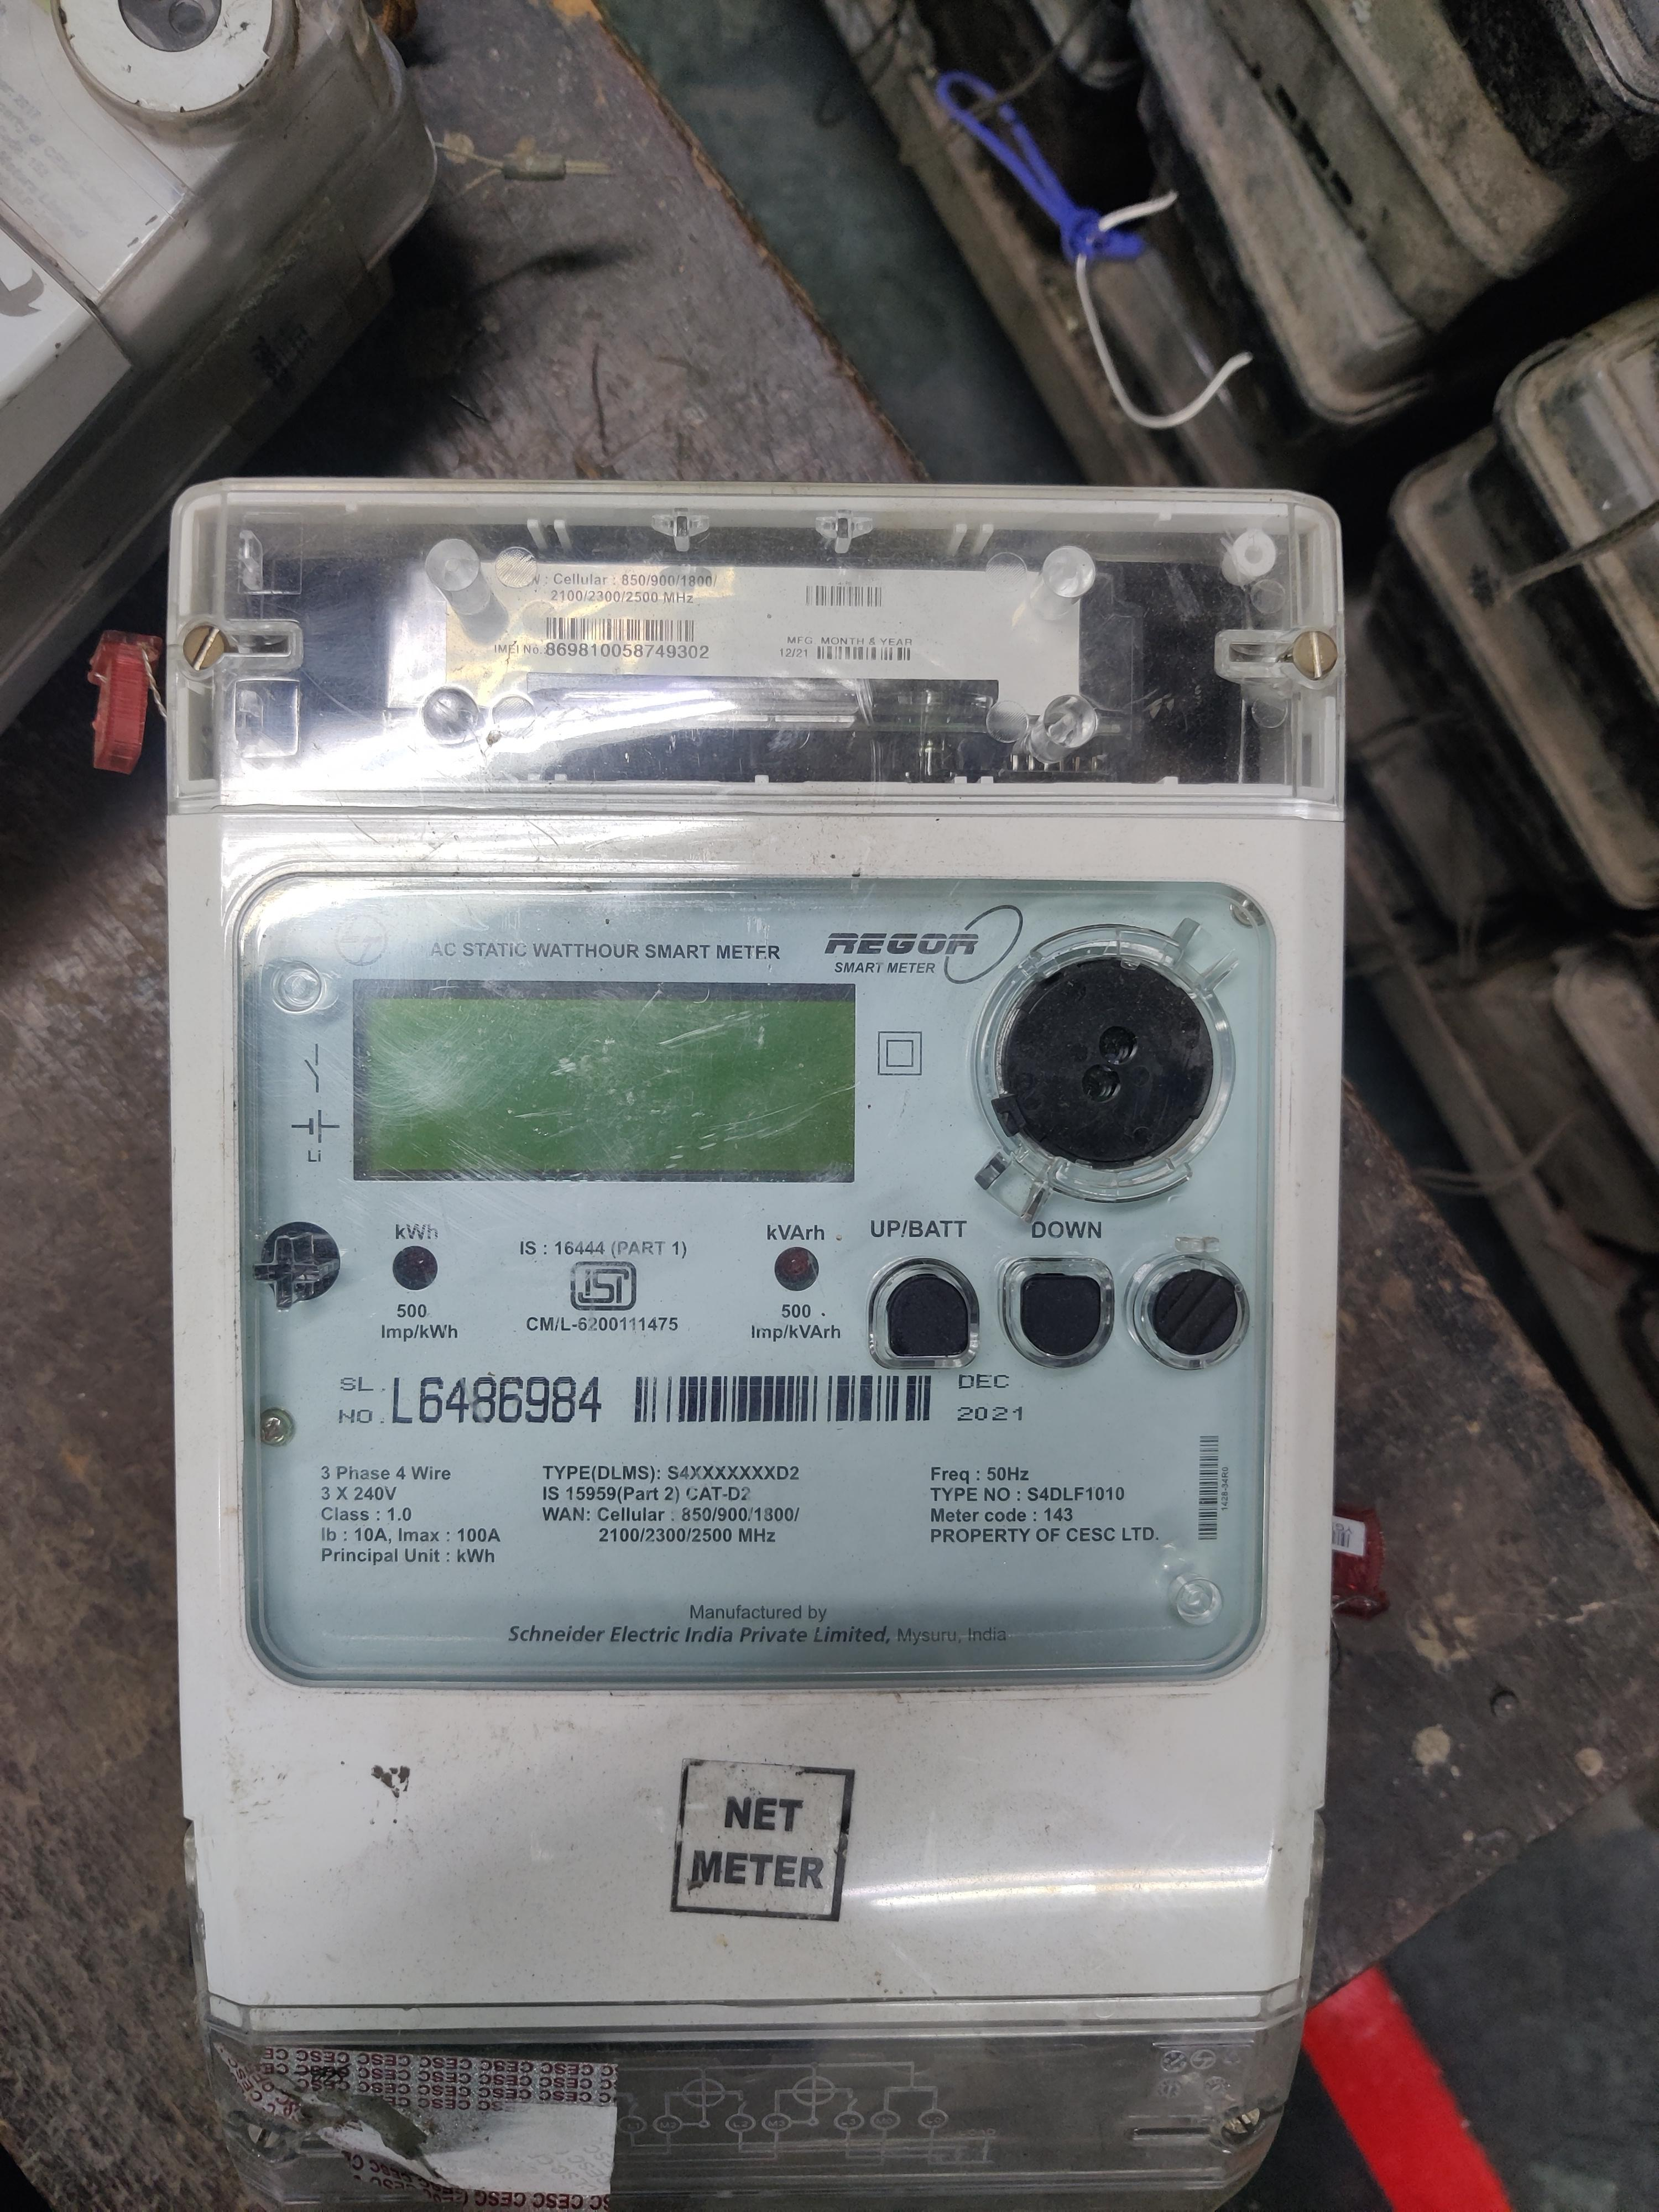meter_readings: (361, 977, 856, 1181)
serial_number: (416, 1366, 612, 1432)
